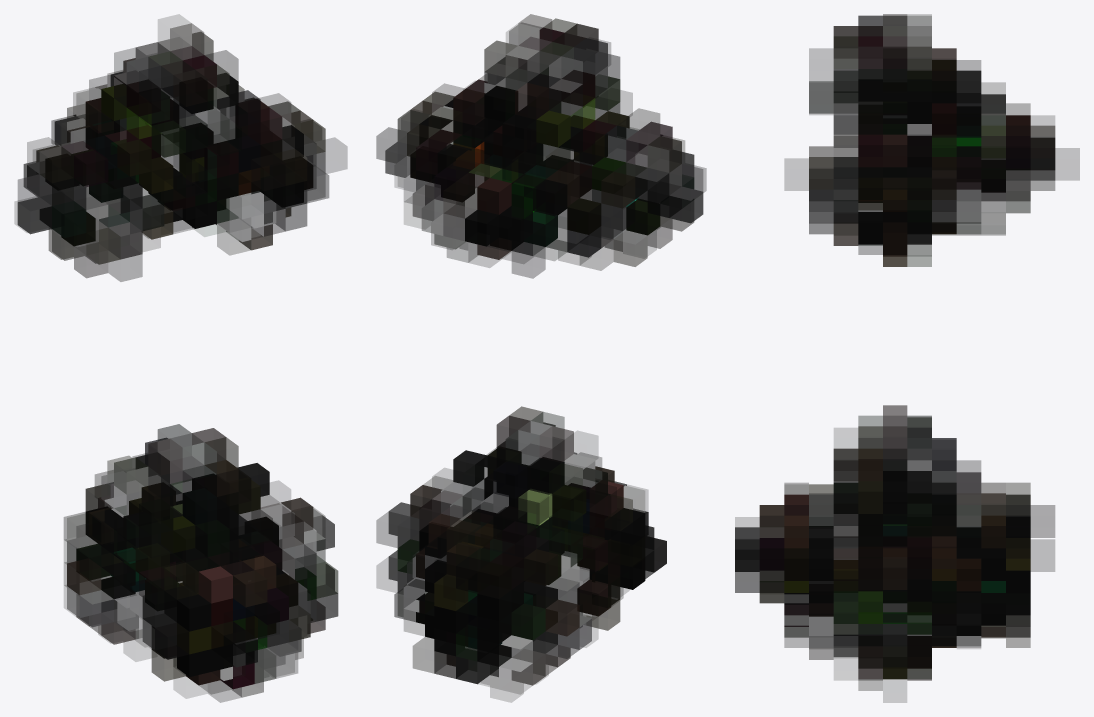
Rendered from iter_5.obj.
3 views of the same model, side by side, from view 1: azimuth 30°, elevation 25°; view 2: azimuth 150°, elevation 25°; view 3: azimuth 270°, elevation 25° (orthographic). The views are drawn at different scales.
Parts seen in each view (by area): view 1: iter_5; view 2: iter_5; view 3: iter_5.
Boxes of the visible parts, x1,y1,x2,y2 form: iter_5: (15, 14, 347, 702); iter_5: (376, 14, 706, 702); iter_5: (735, 14, 1079, 702).
Bounding box in the file's own units: 1.4 × 2.9 × 1.4.
